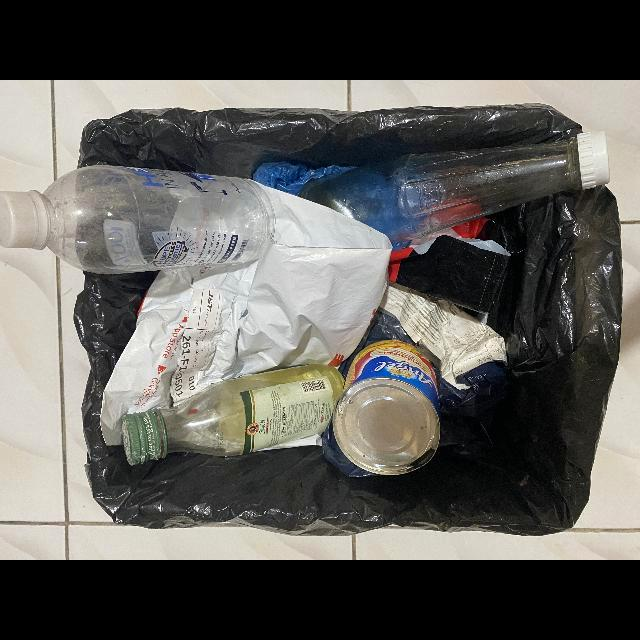aluminum: (333, 340, 440, 475)
glass_bottle: (297, 132, 610, 243), (122, 364, 353, 466)
plastic_bag: (99, 178, 392, 447), (337, 281, 508, 418)
